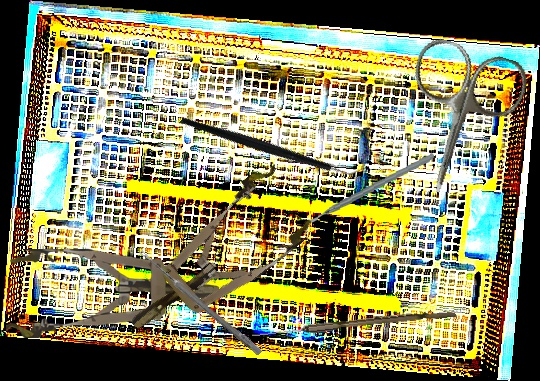Chopper: (178, 60, 365, 230), (297, 153, 440, 234)
Iris Scissors: (381, 33, 534, 209)
Speculum: (106, 159, 323, 358), (6, 249, 219, 338)
Surgical Spoon: (136, 248, 264, 356), (251, 306, 456, 342)
